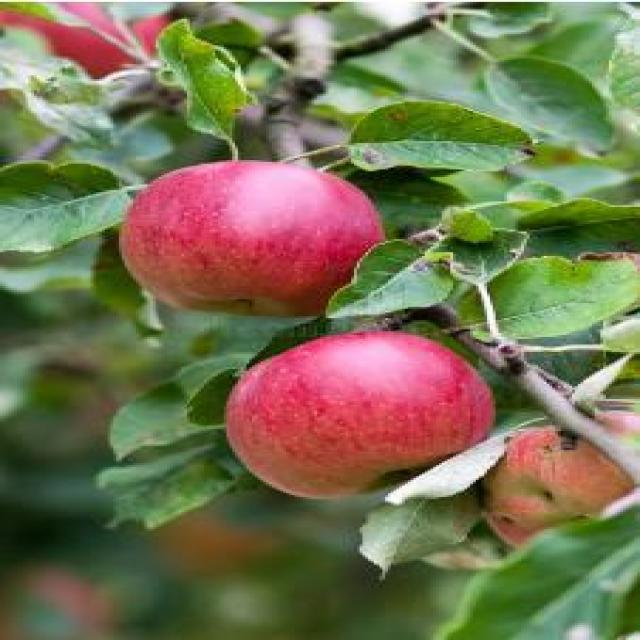fruit: (224, 328, 490, 500), (125, 158, 398, 322), (484, 415, 636, 543), (3, 4, 148, 80)
